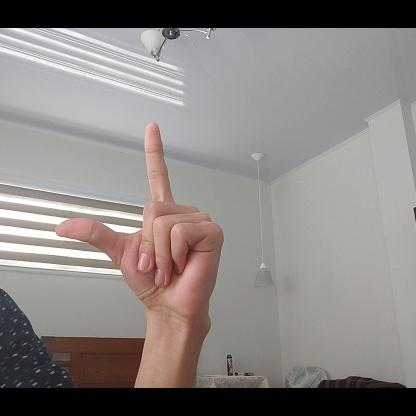L: (51, 121, 225, 318)
